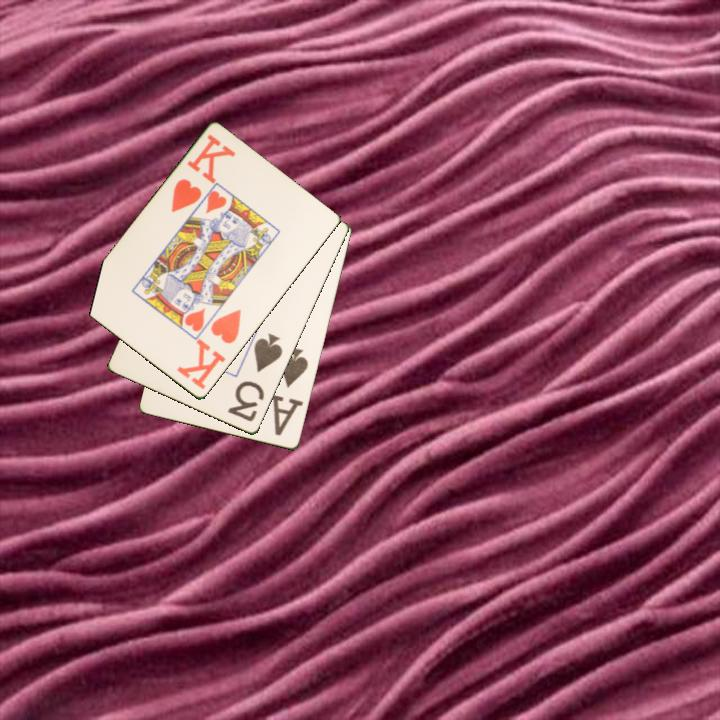3s: (224, 330, 286, 425)
As: (275, 344, 311, 430)
Kh: (173, 306, 244, 393), (167, 131, 238, 216)
